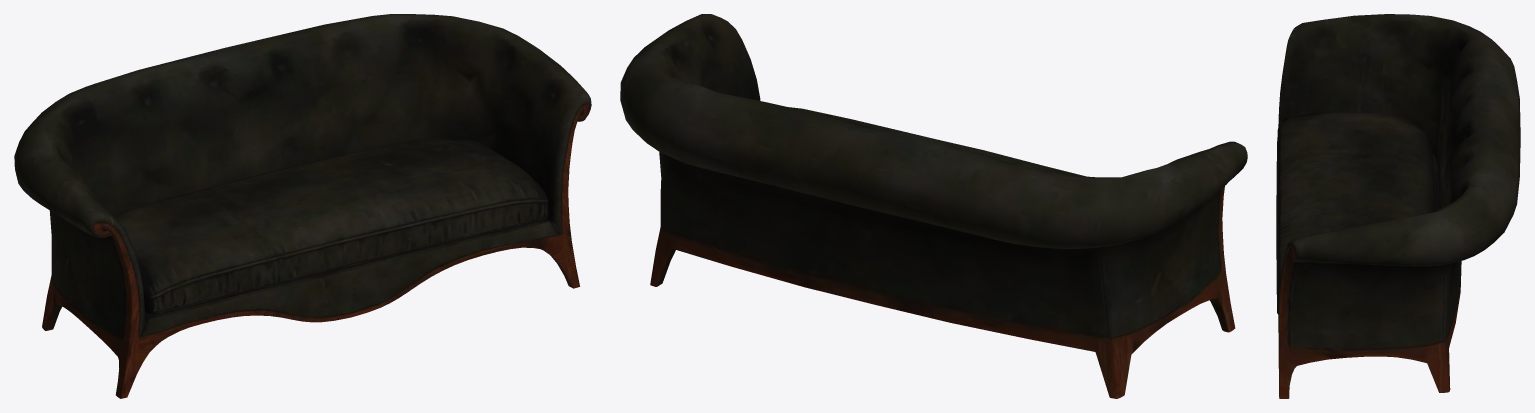
Rendered from sofa-leather.glb.
The picture shows the model from 3 angles, left to right: view 1: azimuth 30°, elevation 25°; view 2: azimuth 150°, elevation 25°; view 3: azimuth 270°, elevation 25°; orthographic projection. The views are drawn at different scales.
Parts seen in each view (by area): view 1: sofa-leather; view 2: sofa-leather; view 3: sofa-leather.
Boxes of the visible parts, <box> form: sofa-leather: <box>14,14,591,398</box>; sofa-leather: <box>620,14,1247,398</box>; sofa-leather: <box>1276,14,1520,398</box>.
Size of the model in its own units: 1.81 by 0.7095 by 0.8176.
Materials: 1 (1 with a texture image).
